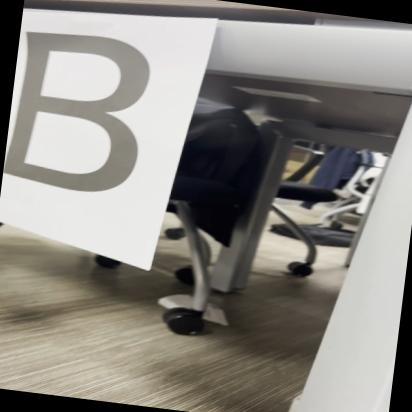seat: (3, 18, 154, 206)
